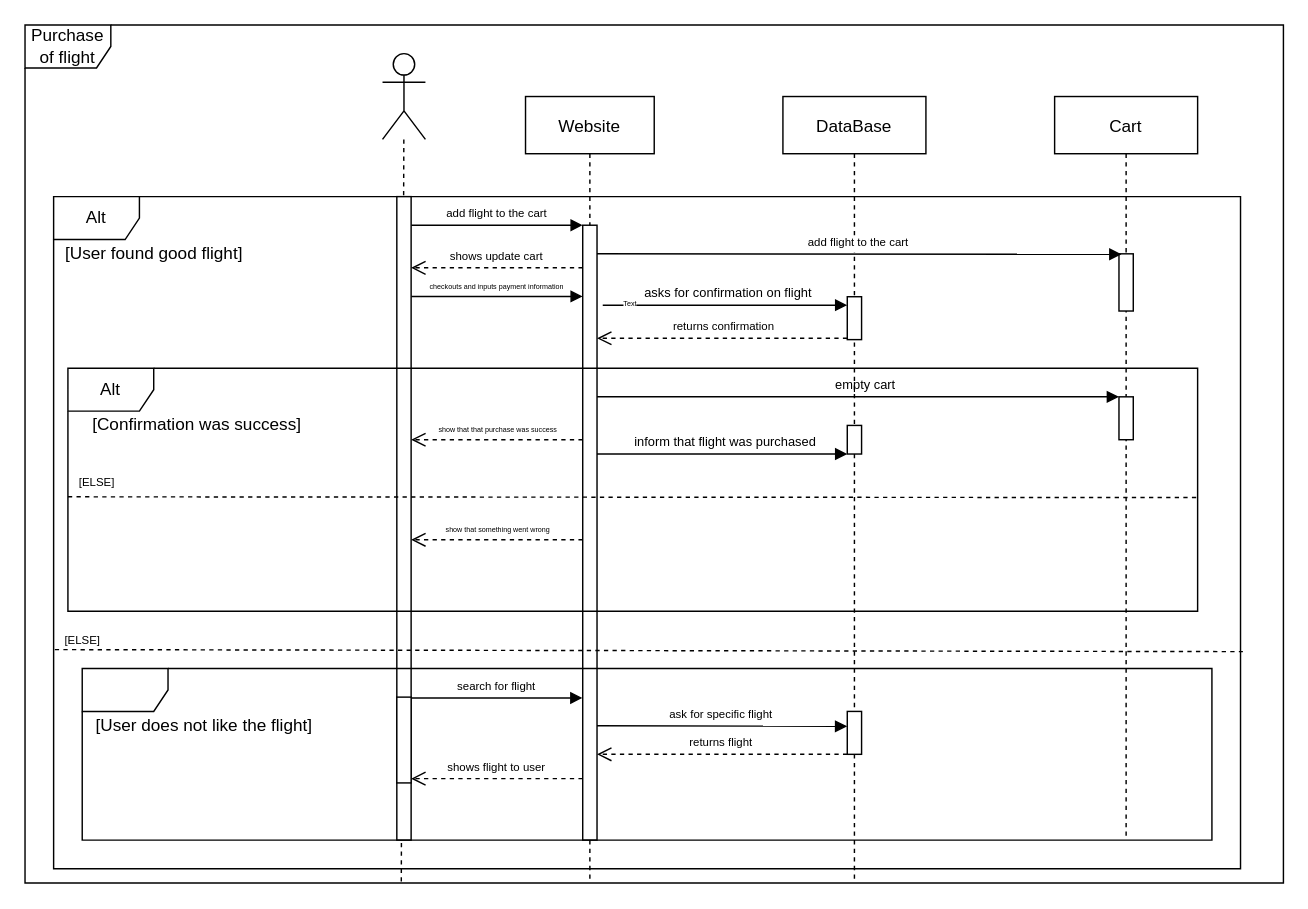
Some shapes in this 1308 by 909 pixel diagram are drawn without their labels. Each missing label, with the centre of its shape:
loop: (646,753)
User: (403,95)
